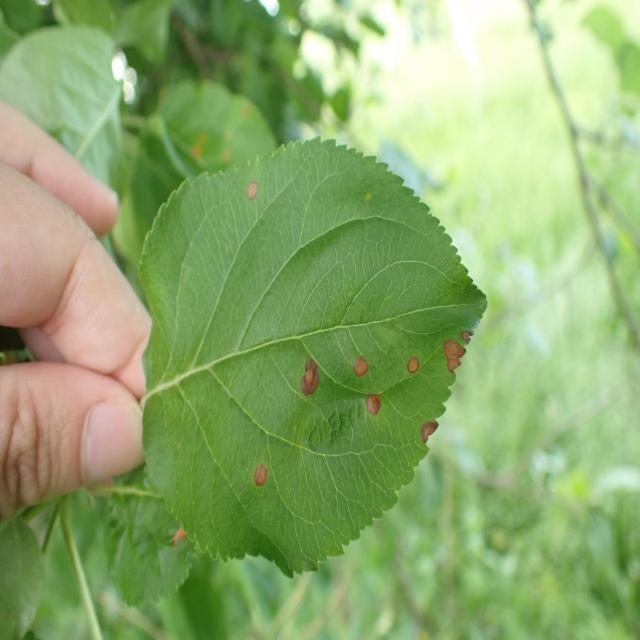Black Rot: (294, 316, 327, 418), (354, 371, 394, 434), (444, 311, 478, 381), (413, 408, 447, 464), (250, 436, 272, 514), (342, 336, 376, 384), (401, 342, 427, 393), (239, 156, 260, 219)
